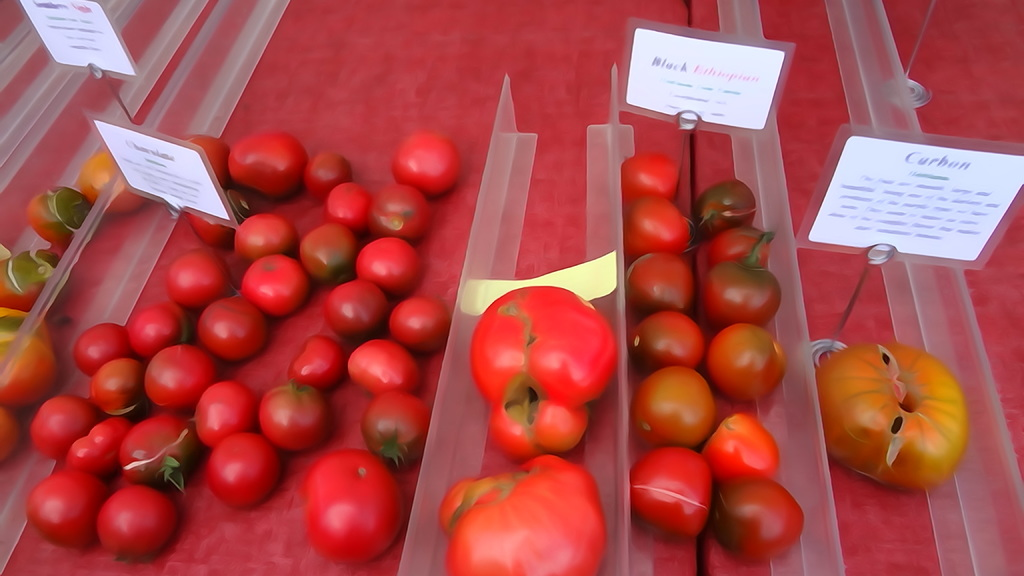Tomato: (30, 129, 447, 565), (631, 157, 802, 554), (462, 287, 621, 456), (818, 338, 969, 492), (433, 452, 600, 575), (183, 292, 254, 356)
